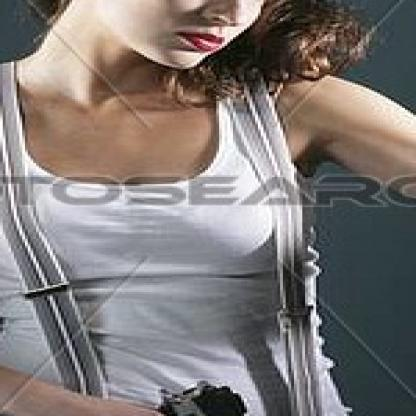gun: (125, 377, 283, 414)
